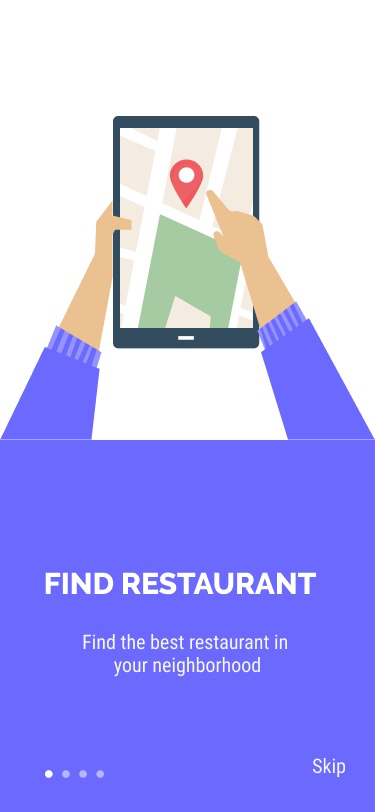Image: (1, 116, 375, 441)
PageIndicator: (45, 769, 106, 779)
Text: (83, 633, 288, 677), (46, 572, 317, 595), (312, 757, 346, 778)
